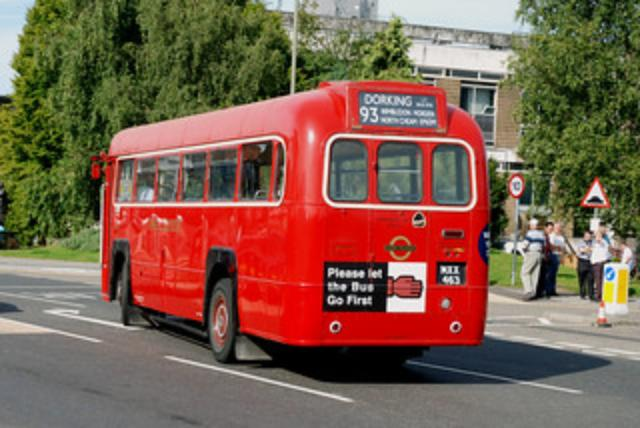bus: (90, 80, 490, 366)
